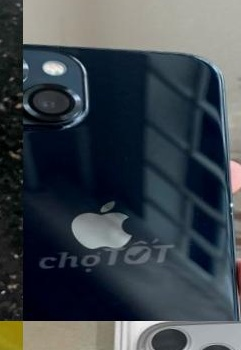physical_damage: (218, 192, 241, 216)
